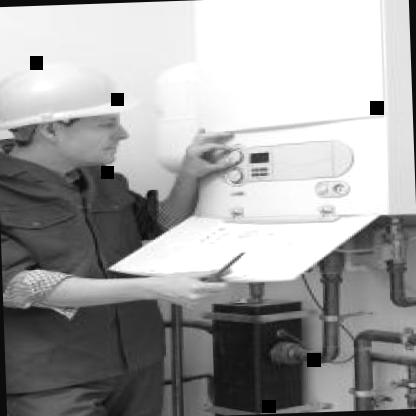helmet: (0, 50, 166, 175)
